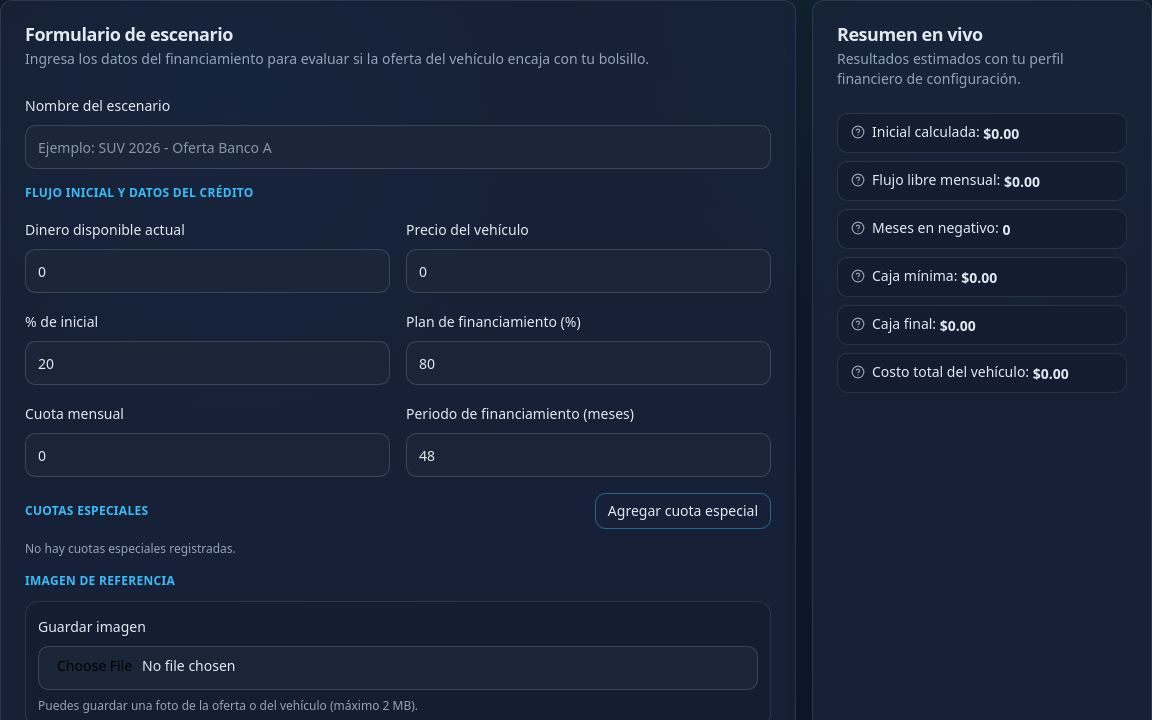
Test: ScenarioForm › shows validation errors from zod schema
Type "A" into the field labelled "Nombre del escenario" at [398, 147], box [25,125,771,169]
(page scrolled)
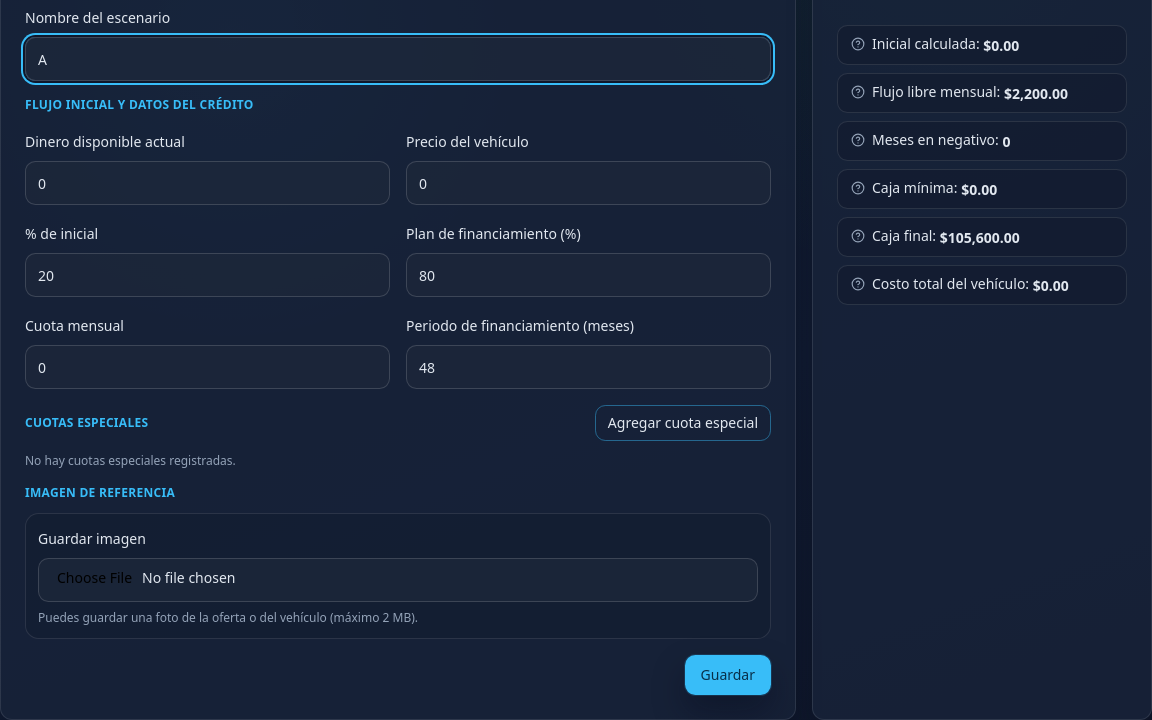
Click the button "Guardar" at [728, 675], box [684,655,771,695]
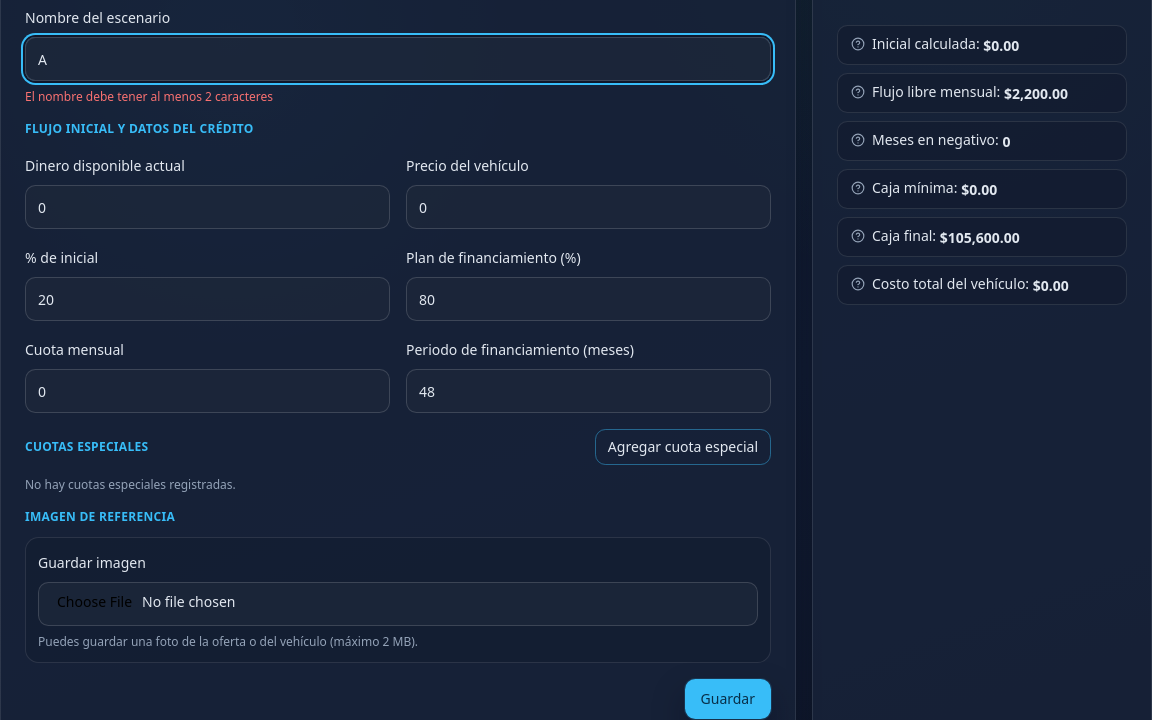
Check: the text "El nombre debe tener al menos 2 caracteres" is shown, box [25,88,273,105]
